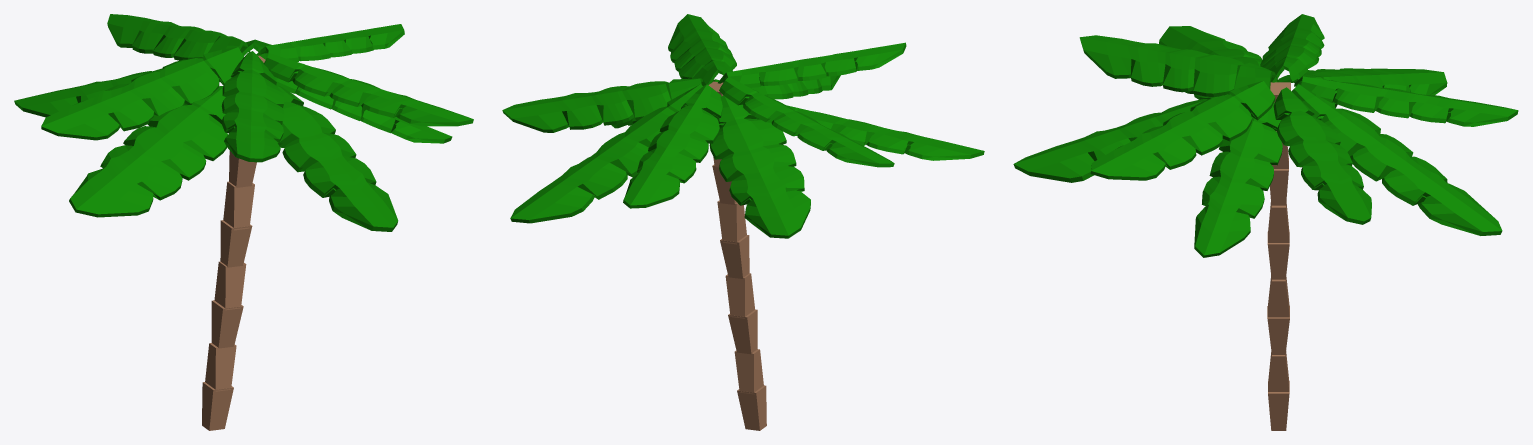
The model's file is Palmera.fbx.
3 renders of one model, left to right at view 1: azimuth 30°, elevation 25°; view 2: azimuth 150°, elevation 25°; view 3: azimuth 270°, elevation 25°, orthographic. The views are drawn at different scales.
Parts seen in each view (by area): view 1: Hoja palmera_base_new.022, Hoja palmera_base_new.007, Hoja palmera_base_new.023, Cube.022, Hoja palmera_base_new.008, Hoja palmera_base_new.009, Hoja palmera_base_new.006, Hoja palmera_base_new.005, Hoja palmera_base_new.024, Hoja palmera_base_new.021; view 2: Hoja palmera_base_new.021, Hoja palmera_base_new.020, Cube.022, Hoja palmera_base_new.006, Hoja palmera_base_new.005, Hoja palmera_base_new.007, Hoja palmera_base_new.008, Hoja palmera_base_new.022, Hoja palmera_base_new.009, Hoja palmera_base_new.023; view 3: Hoja palmera_base_new.020, Hoja palmera_base_new.009, Hoja palmera_base_new.024, Hoja palmera_base_new.008, Hoja palmera_base_new.005, Cube.022, Hoja palmera_base_new.006, Hoja palmera_base_new.023, Hoja palmera_base_new.007, Hoja palmera_base_new.021, Hoja palmera_base_new.022.
Part boxes in pixels (x1,y1,x2,y2): Hoja palmera_base_new.022: (69, 86, 227, 217); Hoja palmera_base_new.007: (41, 47, 243, 140); Hoja palmera_base_new.023: (276, 84, 398, 231); Cube.022: (202, 55, 265, 430); Hoja palmera_base_new.008: (221, 51, 284, 162); Hoja palmera_base_new.009: (264, 53, 473, 126); Hoja palmera_base_new.006: (107, 14, 250, 60); Hoja palmera_base_new.005: (256, 24, 404, 61); Hoja palmera_base_new.024: (275, 77, 452, 143); Hoja palmera_base_new.021: (14, 68, 219, 117); Hoja palmera_base_new.021: (709, 95, 810, 238); Hoja palmera_base_new.020: (510, 84, 702, 223); Cube.022: (708, 81, 766, 430); Hoja palmera_base_new.006: (623, 84, 722, 208); Hoja palmera_base_new.005: (502, 78, 705, 132); Hoja palmera_base_new.007: (719, 77, 894, 167); Hoja palmera_base_new.008: (718, 42, 906, 87); Hoja palmera_base_new.022: (787, 105, 984, 160); Hoja palmera_base_new.009: (668, 14, 736, 85); Hoja palmera_base_new.023: (750, 75, 840, 99); Hoja palmera_base_new.020: (1292, 84, 1502, 235); Hoja palmera_base_new.009: (1090, 81, 1275, 180); Hoja palmera_base_new.024: (1194, 102, 1282, 257); Hoja palmera_base_new.008: (1079, 35, 1278, 96); Hoja palmera_base_new.005: (1273, 87, 1371, 224); Cube.022: (1267, 82, 1290, 430); Hoja palmera_base_new.006: (1294, 76, 1518, 126); Hoja palmera_base_new.023: (1013, 94, 1228, 182); Hoja palmera_base_new.007: (1260, 14, 1324, 82); Hoja palmera_base_new.021: (1278, 68, 1447, 95); Hoja palmera_base_new.022: (1159, 26, 1277, 99).
Bounding box in the file's own units: 3652 × 3086 × 3766.
